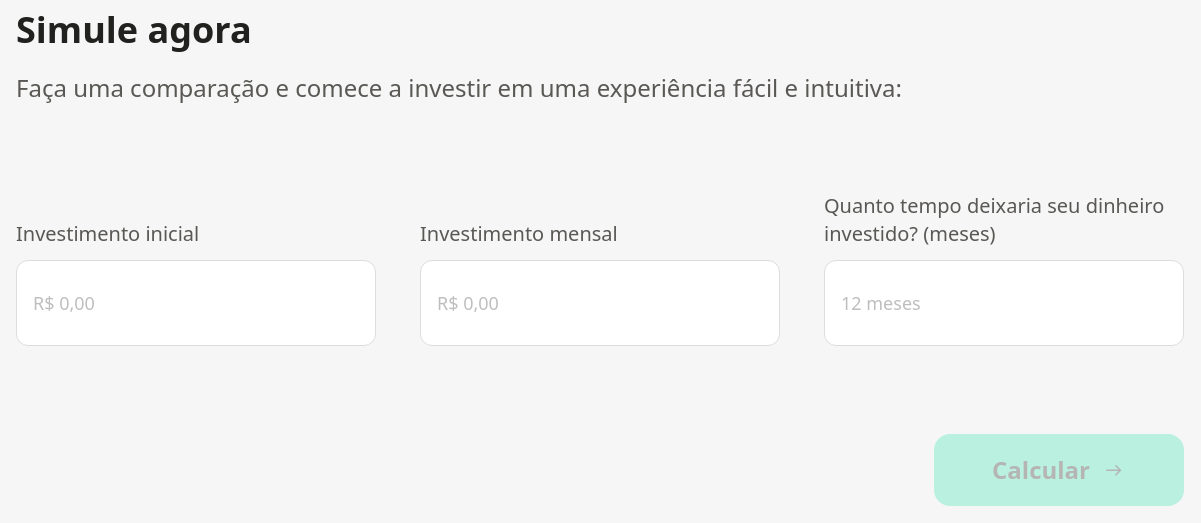
SimulationForm Component › filters non-numeric characters from period input
Type "abc123def456" into the field labelled "Quanto tempo deixaria seu dinheiro investido? (meses)" at (1004, 303), box [824,260,1184,346]
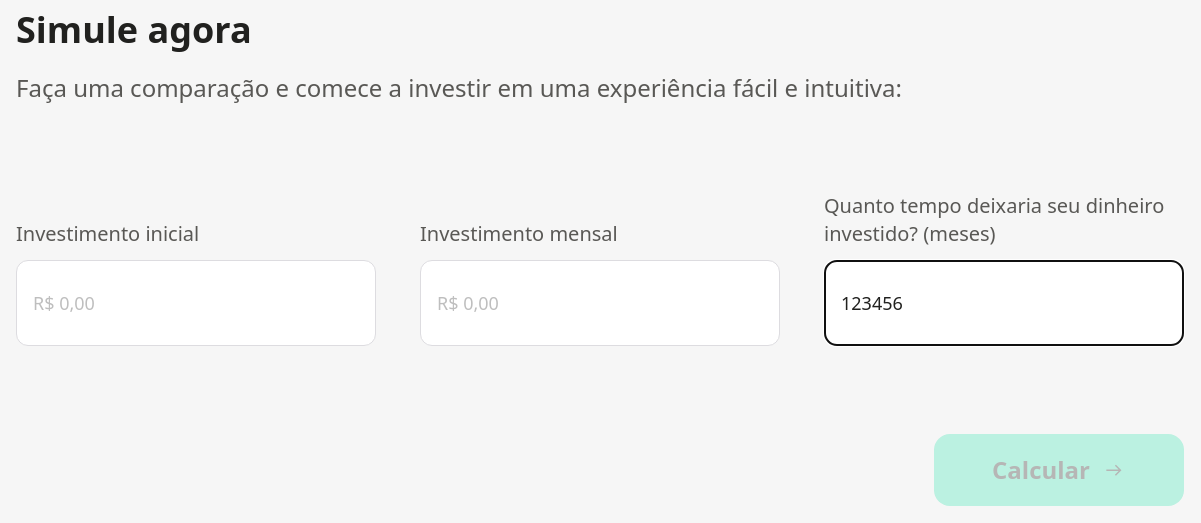
Check: the field labelled "Quanto tempo deixaria seu dinheiro investido? (meses)" holds "123456", box [824,260,1184,346]
